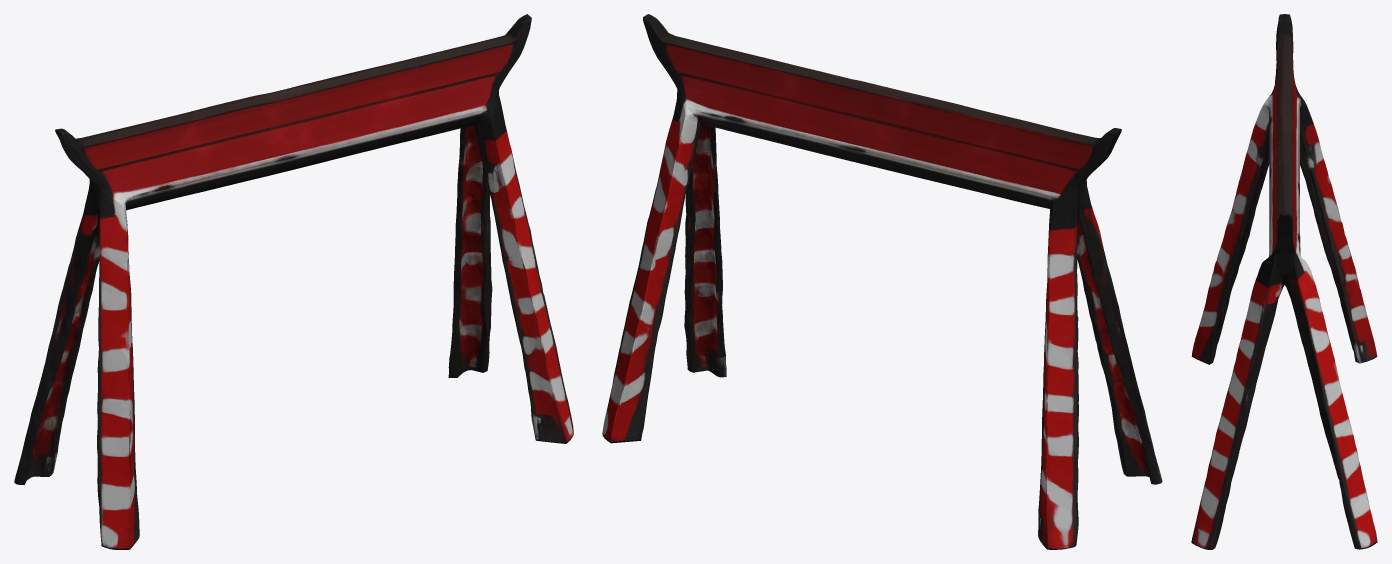
The model's file is icon.glb.
3 views of the same model, side by side, from view 1: azimuth 30°, elevation 25°; view 2: azimuth 150°, elevation 25°; view 3: azimuth 270°, elevation 25° (orthographic). The views are drawn at different scales.
Visible parts, largest first — view 1: world; view 2: world; view 3: world.
Boxes of the visible parts, x1,y1,x2,y2 form: world: (14, 14, 573, 549); world: (602, 14, 1162, 549); world: (1191, 14, 1377, 549).
Bounding box in the file's own units: 0.9978 × 0.7769 × 0.3904.
1 material, 1 textured.
